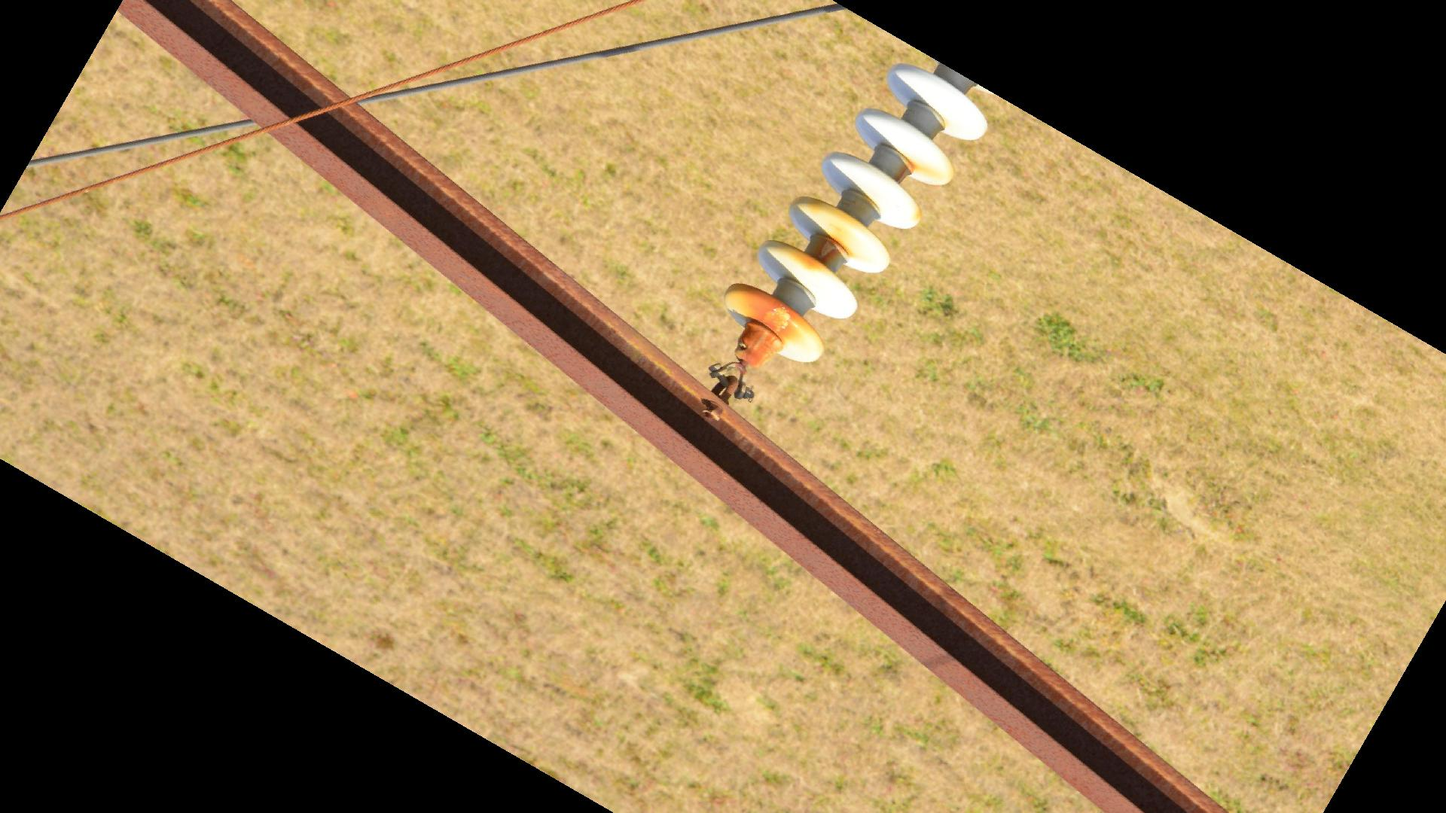insulator: (720, 59, 994, 369)
insulator_flashover: (761, 303, 794, 336)
